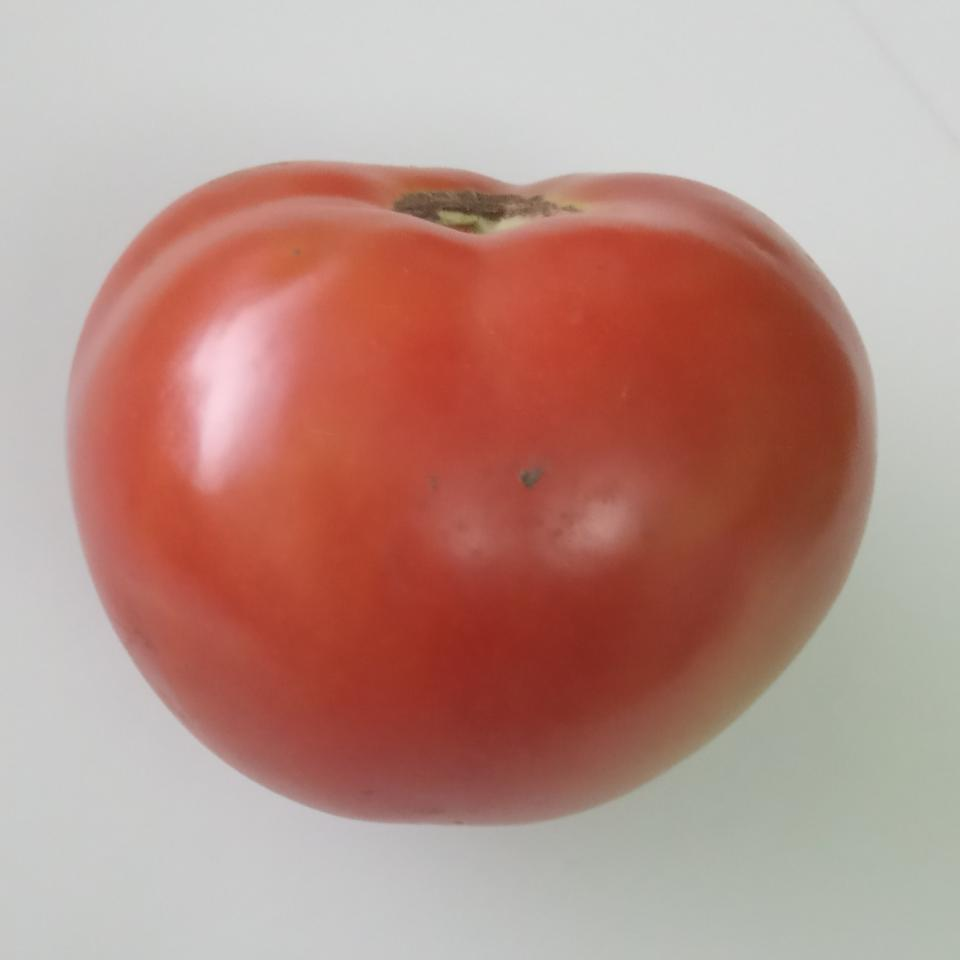Healthy: (67, 145, 879, 826)
